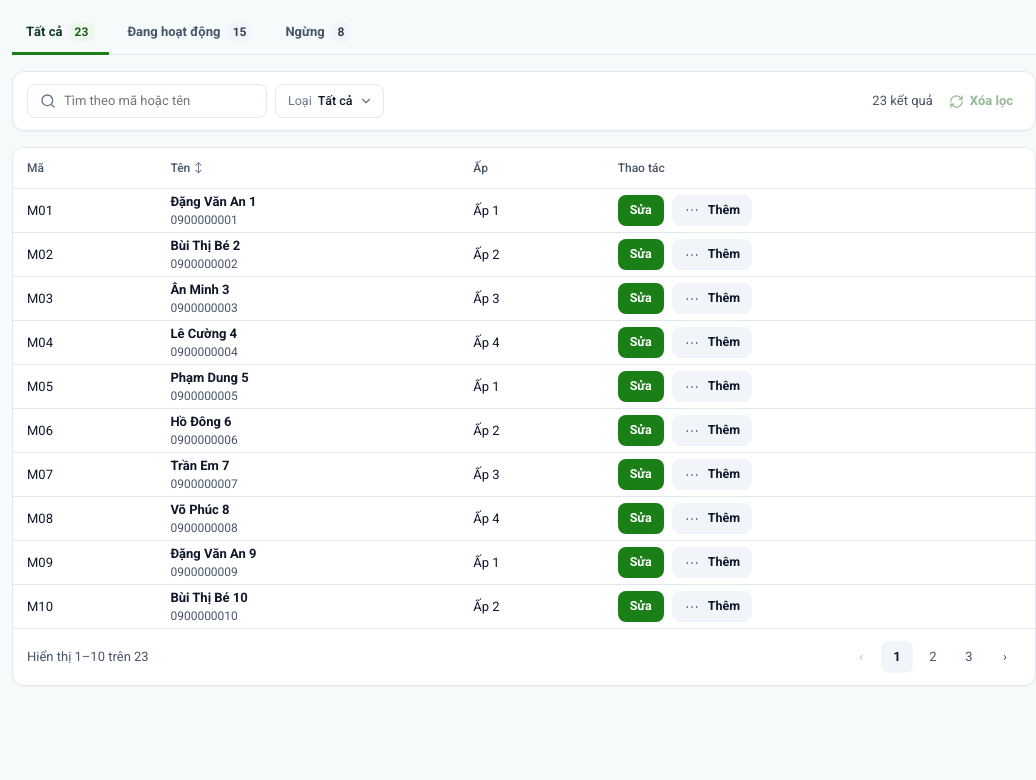
it: Mẫu danh sách UX-01 (AH-292) › phân trang 10 dòng; đổi tab về trang 1
This screenshot has width=1036, height=780.
Click the button named "Trang 3". click: (969, 657)
box: [953,641,985,673]
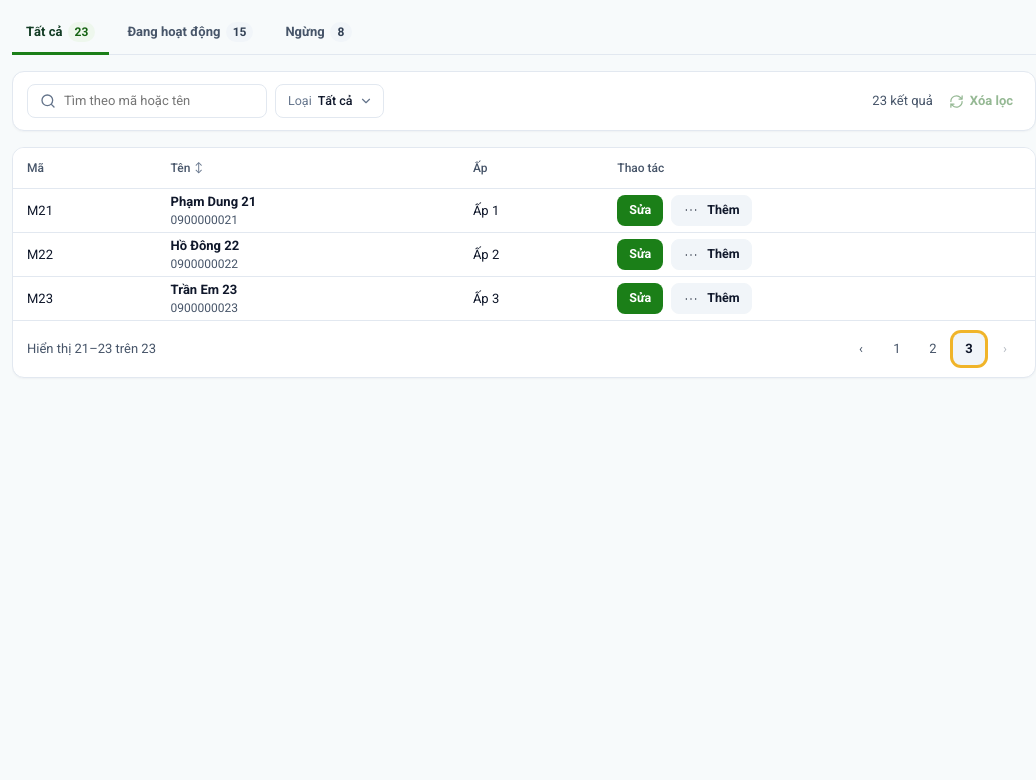
Check: the text "Hiển thị 21–23 trên 23" is shown, box [27,339,156,359]
Click the tab "Đang hoạt động 15". click: (190, 34)
box: [113,12,267,55]
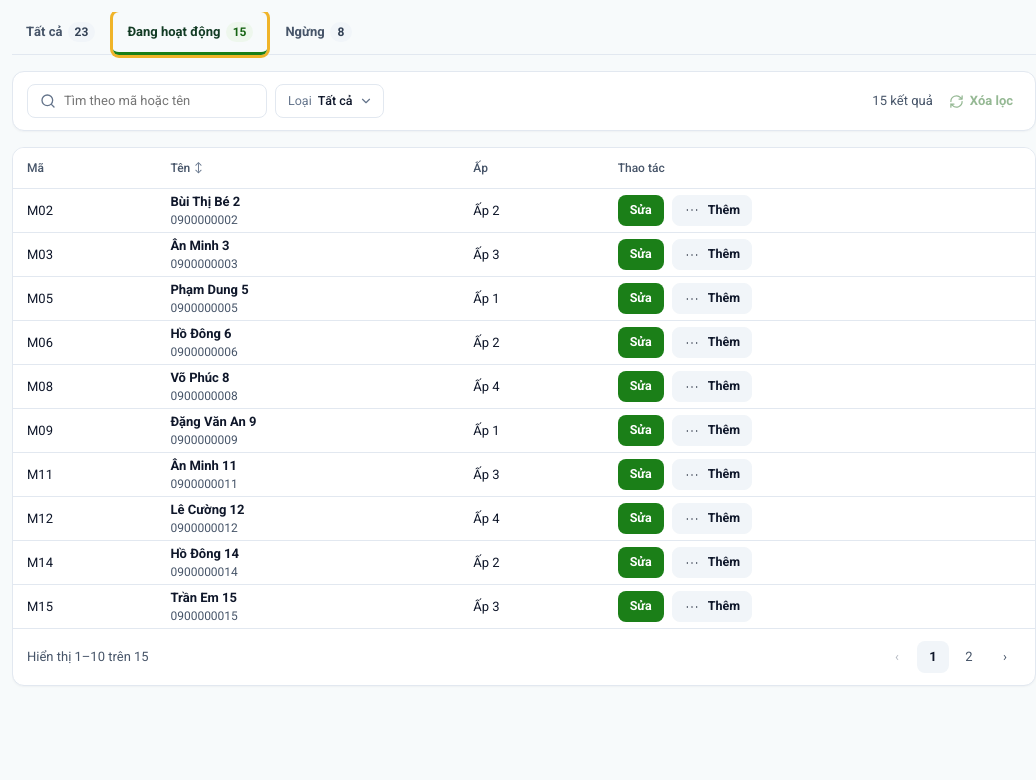
Check: the text "Hiển thị 1–10 trên 15" is shown, box [27,647,149,667]
